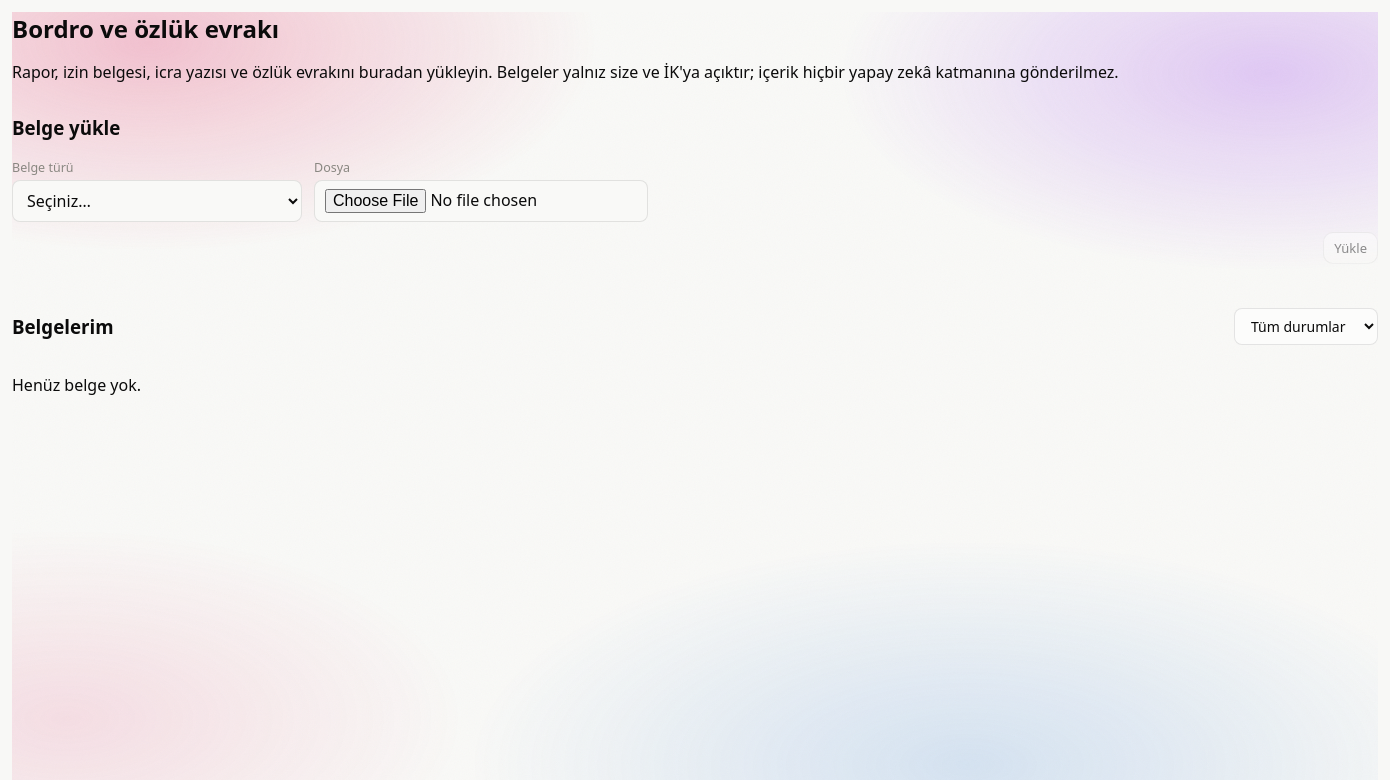
yükleme formu türe göre şekilleniyor › istirahat raporu tarih + dönem ister
Select "İstirahat raporu (iş göremezlik)" in the dropdown labelled "Belge türü": (157, 201) x1=12 y1=180 x2=302 y2=222
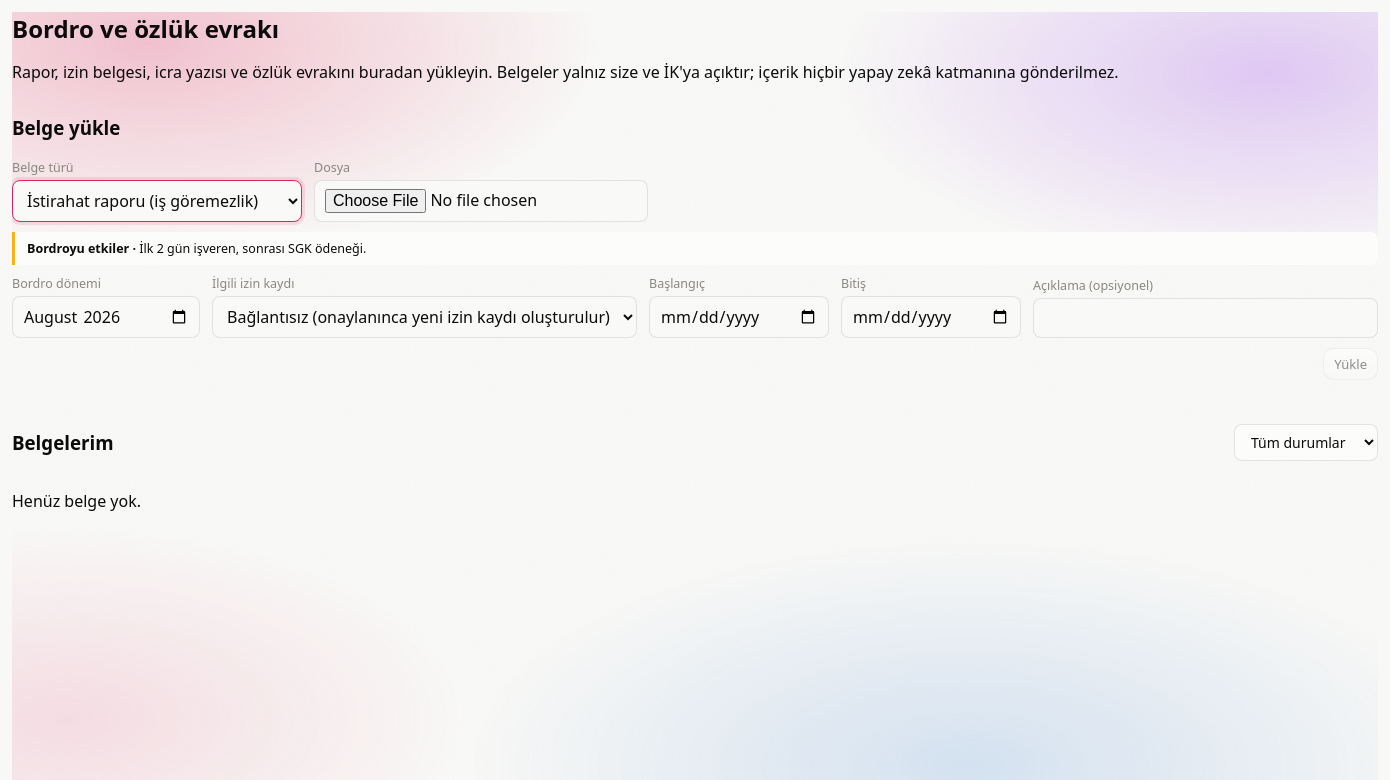
expect the field labelled "Bordro dönemi" is shown: met, box x1=12 y1=296 x2=200 y2=338
expect the date field labelled "Başlangıç" is shown: met, box x1=649 y1=296 x2=829 y2=338
expect the date field labelled "Bitiş" is shown: met, box x1=841 y1=296 x2=1021 y2=338
